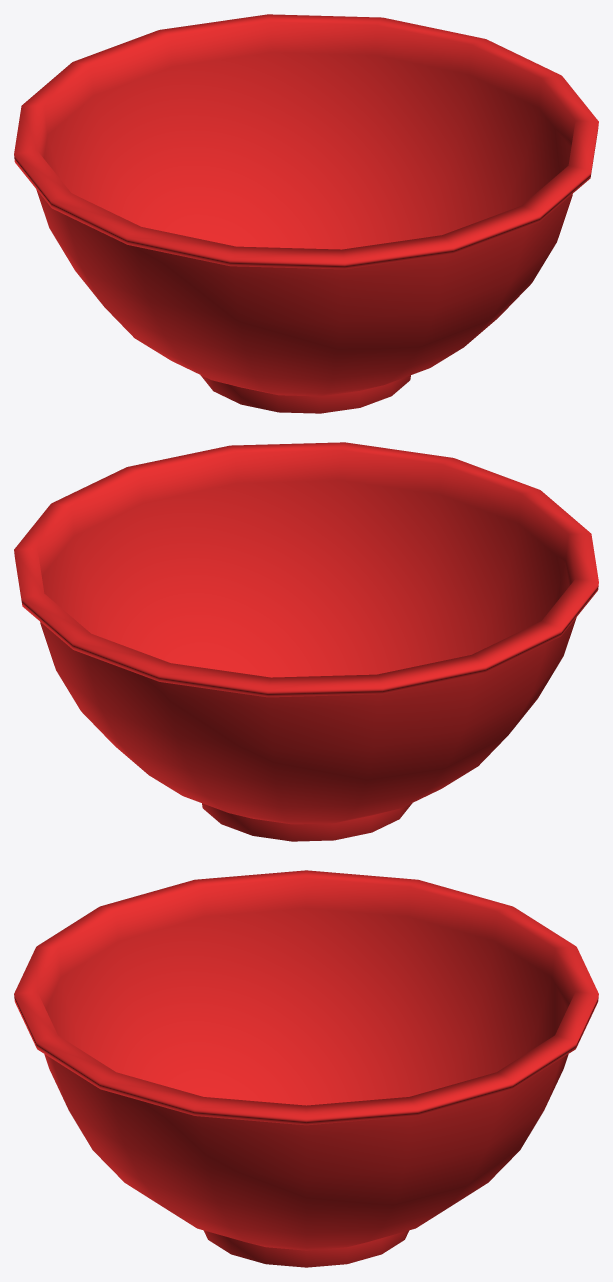
The model's file is bowl_1.fbx.
3 views of the same model, one above another, from view 1: azimuth 30°, elevation 25°; view 2: azimuth 150°, elevation 25°; view 3: azimuth 270°, elevation 25° (orthographic).
Parts seen in each view (by area): view 1: polySurface5; view 2: polySurface5; view 3: polySurface5.
Boxes of the visible parts, x1,y1,x2,y2 form: polySurface5: (14,14,598,413); polySurface5: (14,442,598,841); polySurface5: (14,870,598,1267).
Bounding box in the file's own units: 10.25 × 4.46 × 10.25.
